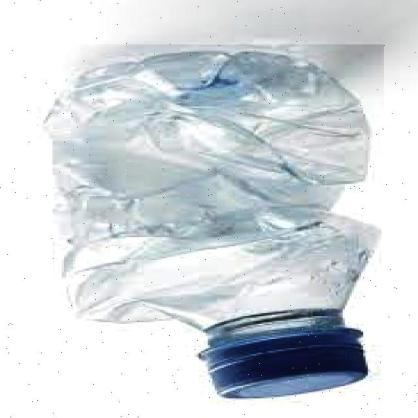bottle: (31, 44, 384, 405)
cap: (190, 320, 372, 398)
